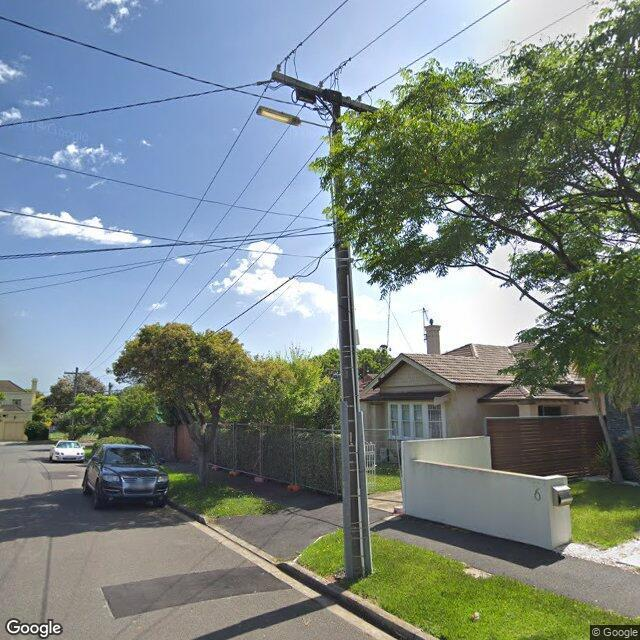crossarm: (268, 42, 384, 118)
streetlight: (255, 105, 334, 130)
timber-pole: (332, 91, 373, 575)
